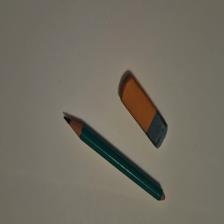eraser: (120, 76, 169, 150)
pencil: (65, 117, 167, 203)
